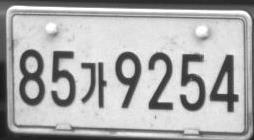2: (147, 51, 174, 110)
4: (209, 54, 239, 113)
5: (179, 52, 206, 112), (50, 50, 77, 107)
8: (18, 48, 45, 107)
9: (114, 51, 142, 108)
가: (81, 61, 107, 109)
